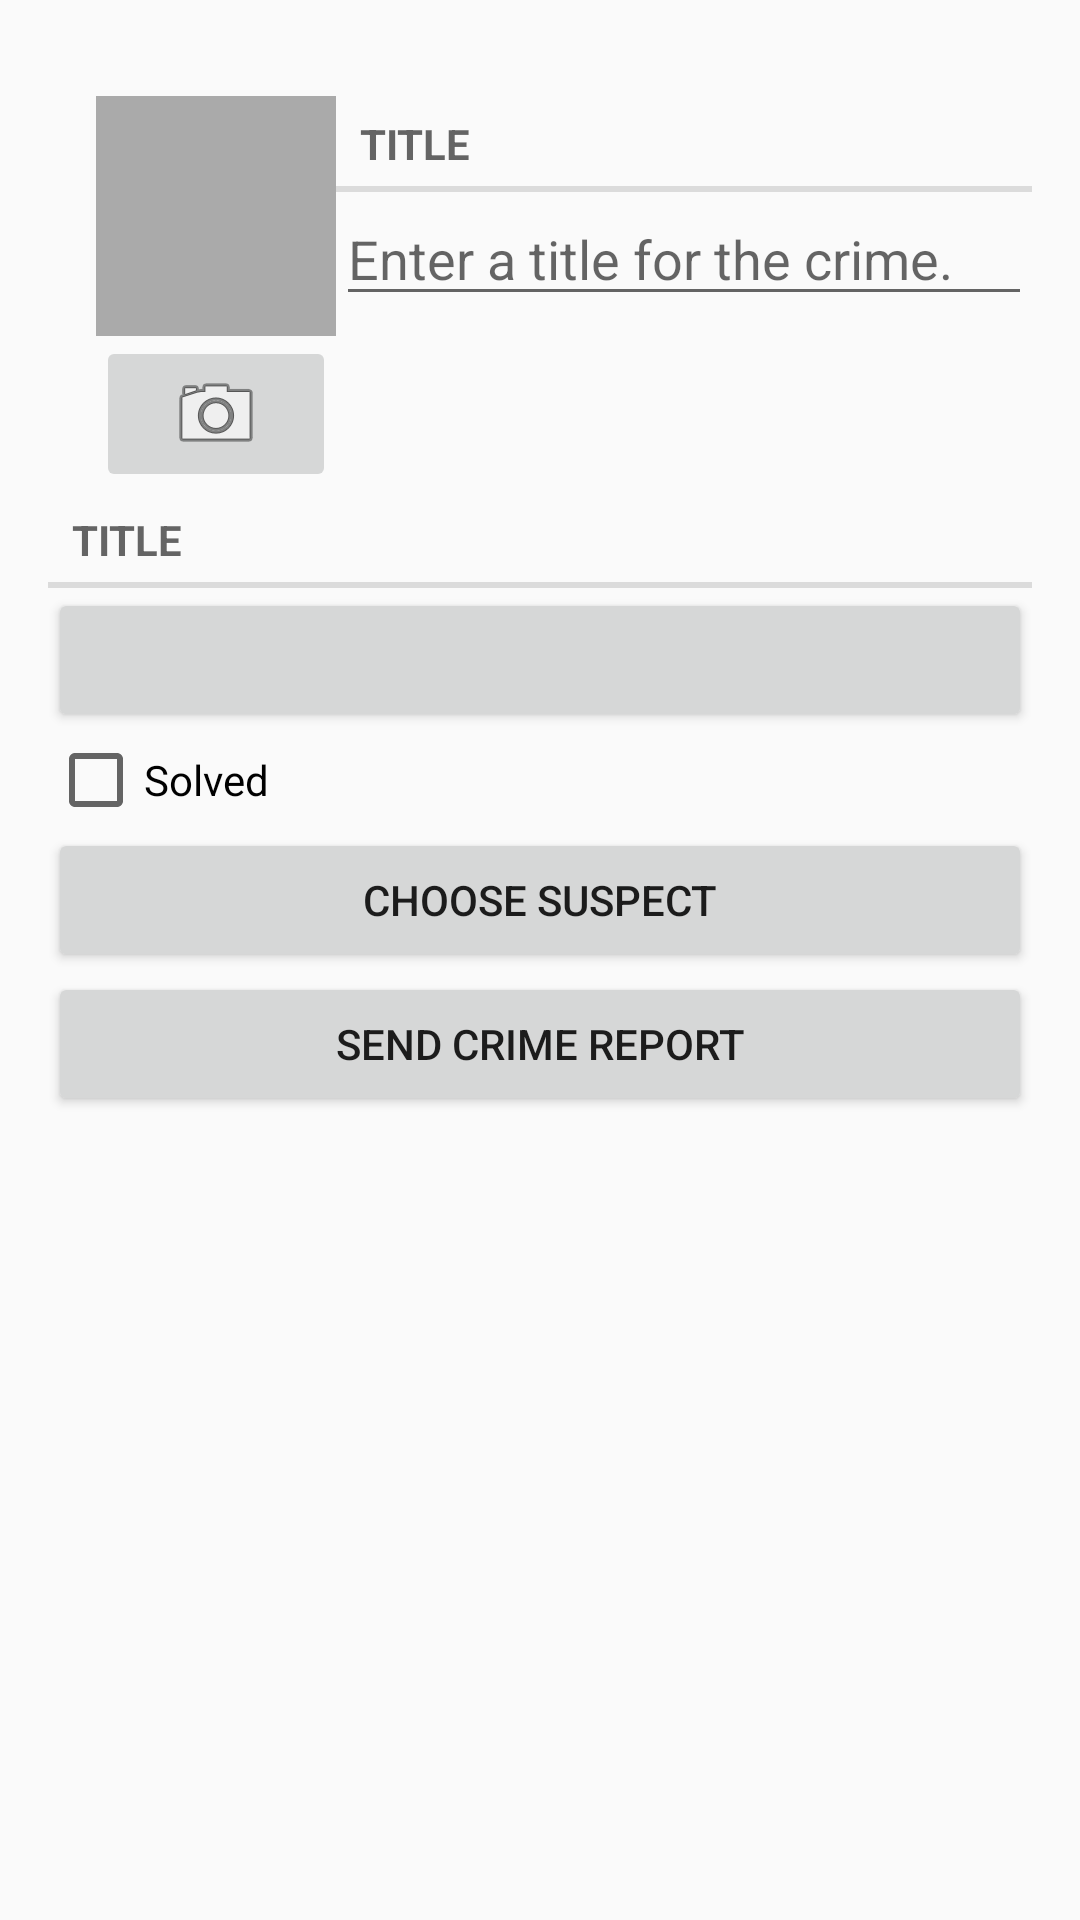

Icons on this 1080 x 1920 Android screen, each with its box as [x1,y1,x2,y2]:
camera: [108,354,324,474]
